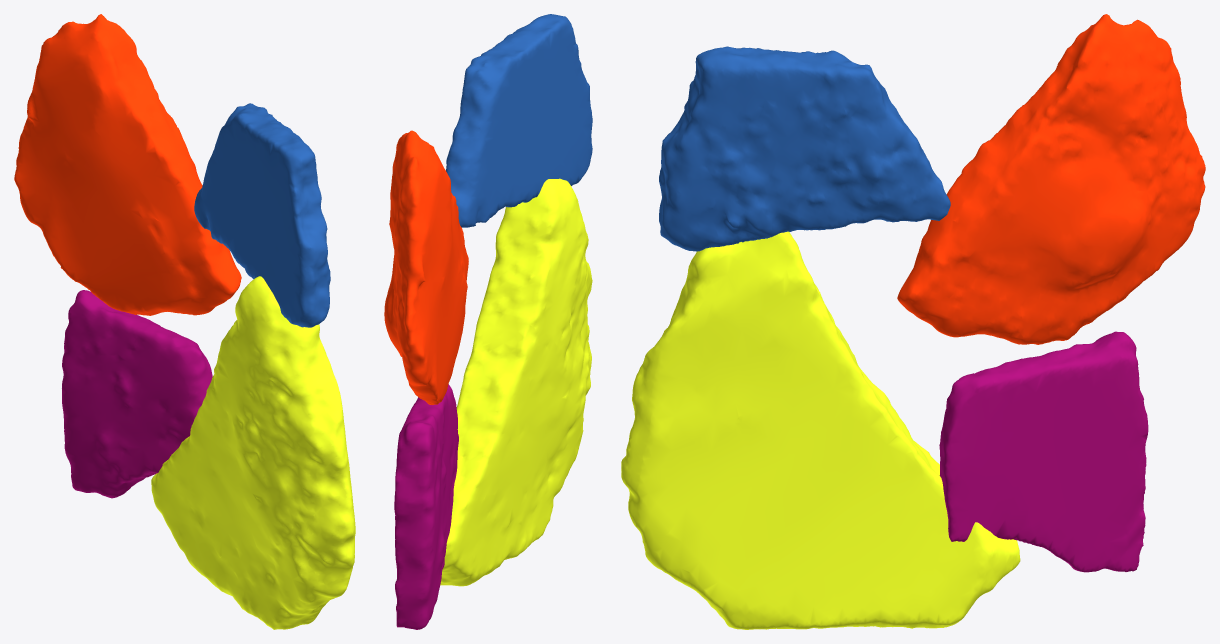
The model's file is Wall Assembly.fbx.
3 views of the same model, side by side, from view 1: azimuth 30°, elevation 25°; view 2: azimuth 150°, elevation 25°; view 3: azimuth 270°, elevation 25° (orthographic). The views are drawn at different scales.
Visible parts, largest first — view 1: Object_4, Object_1, Object_2, Object_3; view 2: Object_4, Object_3, Object_1, Object_2; view 3: Object_4, Object_1, Object_3, Object_2.
Part boxes in pixels (x1,y1,x2,y2): Object_4: (151,276,355,629); Object_1: (14,14,241,315); Object_2: (62,290,212,498); Object_3: (194,103,330,327); Object_4: (440,178,592,586); Object_3: (446,14,592,227); Object_1: (384,130,468,404); Object_2: (394,384,458,629); Object_4: (621,231,1020,629); Object_1: (897,14,1205,344); Object_3: (659,46,950,251); Object_2: (939,331,1148,572).
Size of the model in its own units: 432 by 1920 by 1704.
